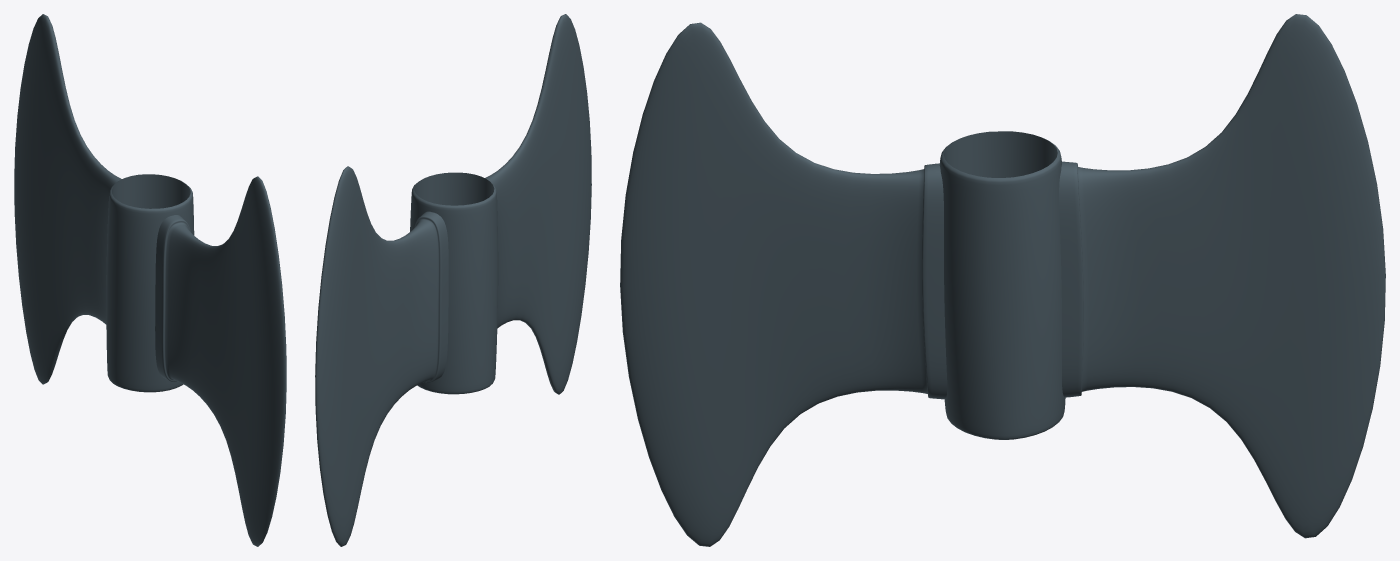
The model's file is Blade_Axe.fbx.
The picture shows the model from 3 angles, left to right: view 1: azimuth 30°, elevation 25°; view 2: azimuth 150°, elevation 25°; view 3: azimuth 270°, elevation 25°; orthographic projection. The views are drawn at different scales.
Parts seen in each view (by area): view 1: Blade_Axe; view 2: Blade_Axe; view 3: Blade_Axe.
Boxes of the visible parts, left/top/right/bottom form: Blade_Axe: left=14, top=14, right=286, bottom=546; Blade_Axe: left=315, top=14, right=591, bottom=546; Blade_Axe: left=620, top=14, right=1385, bottom=546.
Bounding box in the file's own units: 73.71 × 352 × 458.
